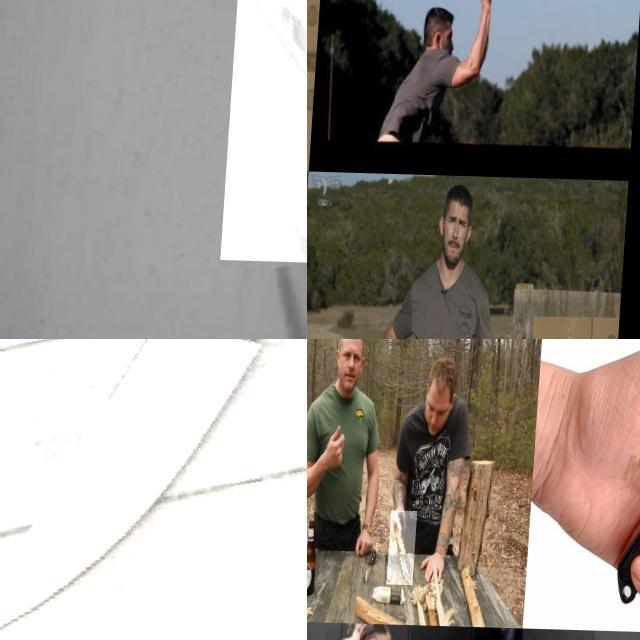-: (0, 339, 307, 640), (226, 0, 307, 262), (390, 510, 420, 584), (307, 215, 319, 296), (456, 0, 494, 18), (307, 0, 323, 39)
